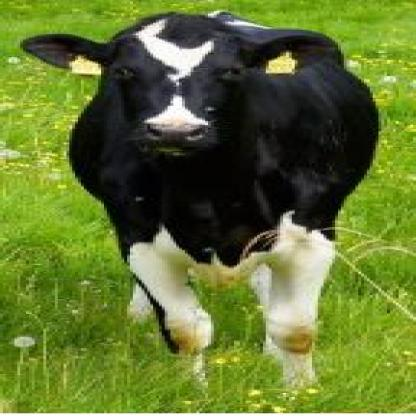cow: (22, 11, 380, 386)
